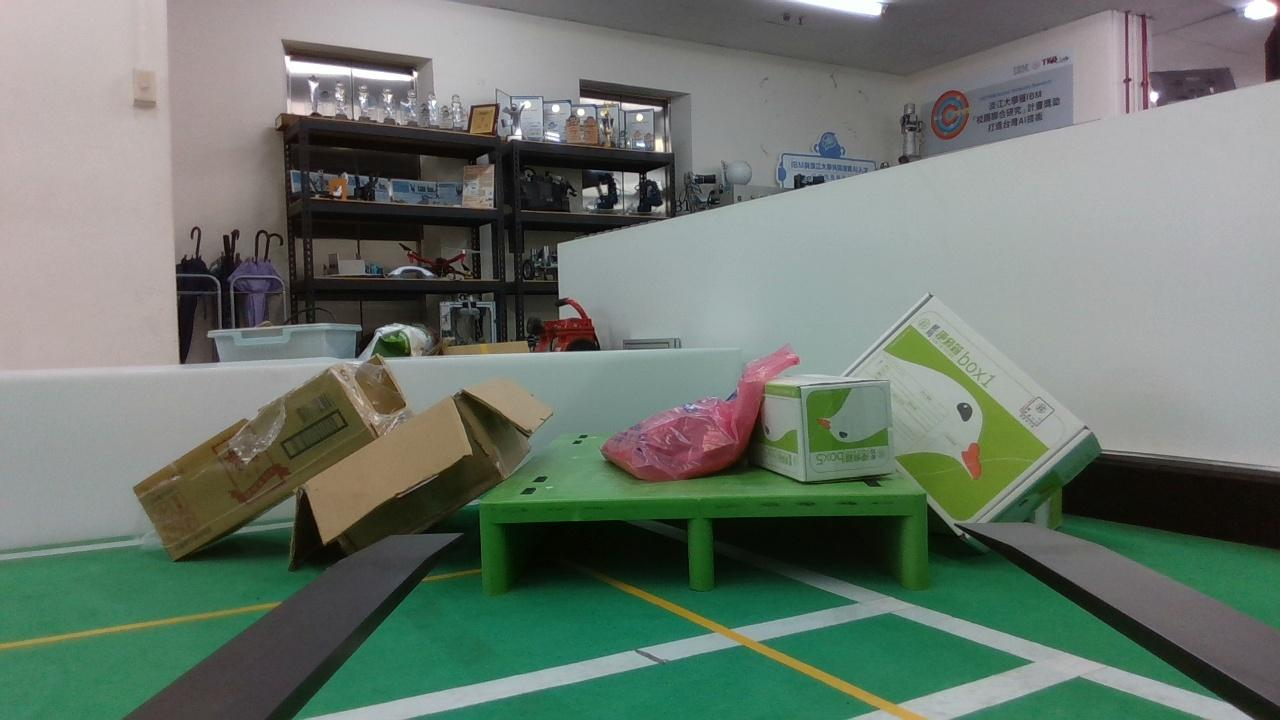Pallet: (479, 491, 931, 590)
